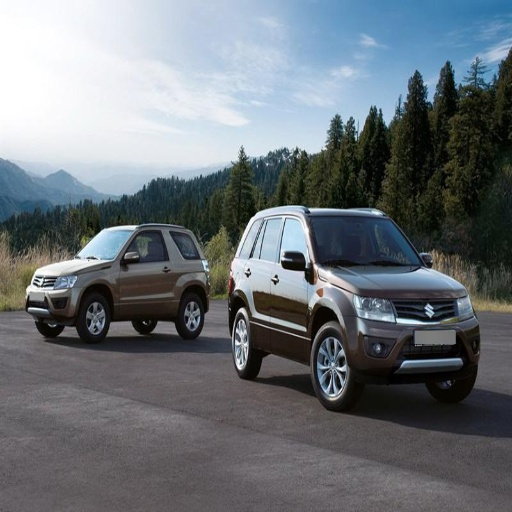front_bumper: (348, 297, 480, 374), (27, 277, 86, 327)
front_glass: (306, 215, 426, 266)
front_left_door: (120, 228, 169, 305)
front_right_door: (270, 213, 311, 349)
